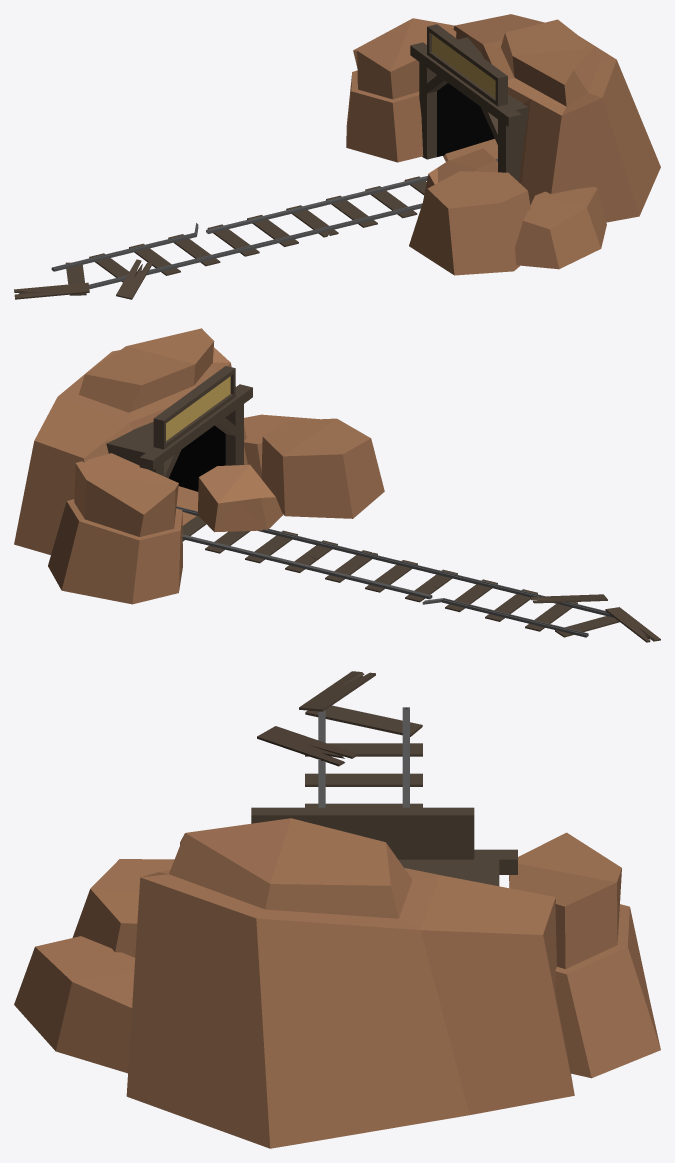
The model's file is tunnel.fbx.
3 renders of one model, top to bottom at view 1: azimuth 30°, elevation 25°; view 2: azimuth 150°, elevation 25°; view 3: azimuth 270°, elevation 25°, orthographic. The views are drawn at different scales.
Visible parts, largest first — view 1: tunnel; view 2: tunnel; view 3: tunnel.
Part boxes in pixels (x1,y1,x2,y2): tunnel: (14, 14, 660, 299); tunnel: (14, 328, 660, 642); tunnel: (14, 671, 660, 1148).
Size of the model in its own units: 16.63 by 9.55 by 3.76.
